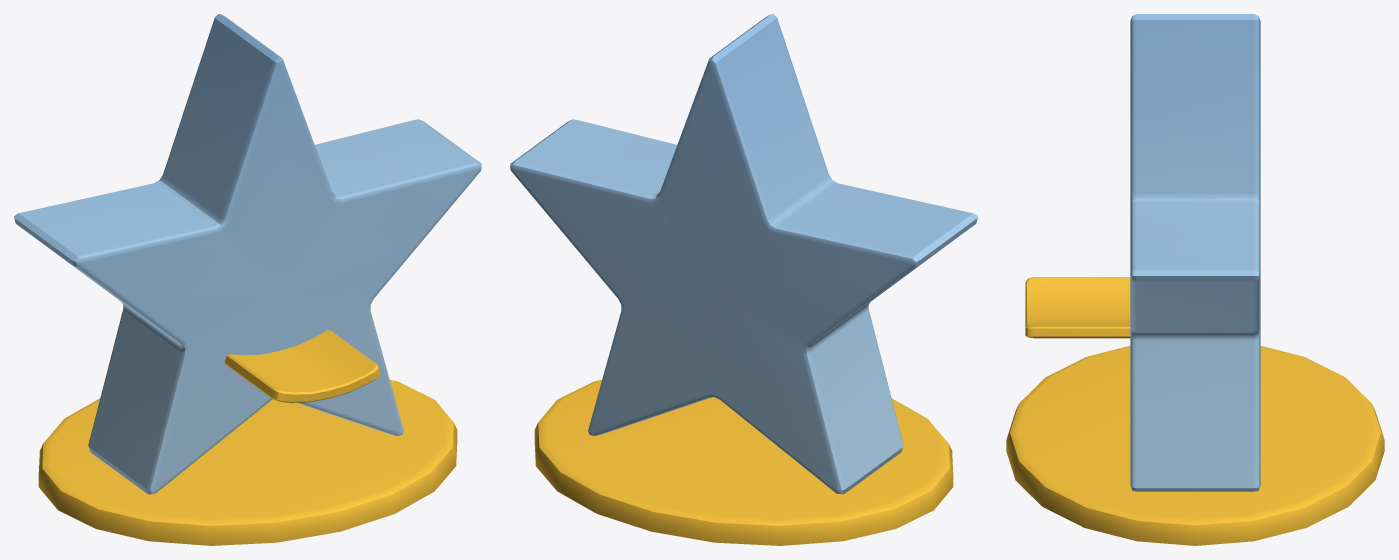
The model's file is Photoshoot_Prop_03.fbx.
The picture shows the model from 3 angles, left to right: view 1: azimuth 30°, elevation 25°; view 2: azimuth 150°, elevation 25°; view 3: azimuth 270°, elevation 25°; orthographic projection. The views are drawn at different scales.
Visible parts, largest first — view 1: Star_M, Pillow_M; view 2: Star_M; view 3: Star_M, Pillow_M.
Part boxes in pixels (box(x1,y1,x2,y2)): Star_M: box(14, 14, 481, 545); Pillow_M: box(225, 330, 380, 402); Star_M: box(510, 14, 977, 545); Star_M: box(1006, 14, 1384, 545); Pillow_M: box(1025, 277, 1130, 338).
Size of the model in its own units: 125 by 125 by 97.79.
Materials: 2 (2 with a texture image).
